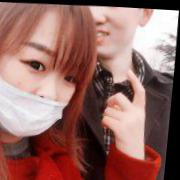NONE: (75, 5, 142, 60)
WRONG: (1, 23, 94, 139)
